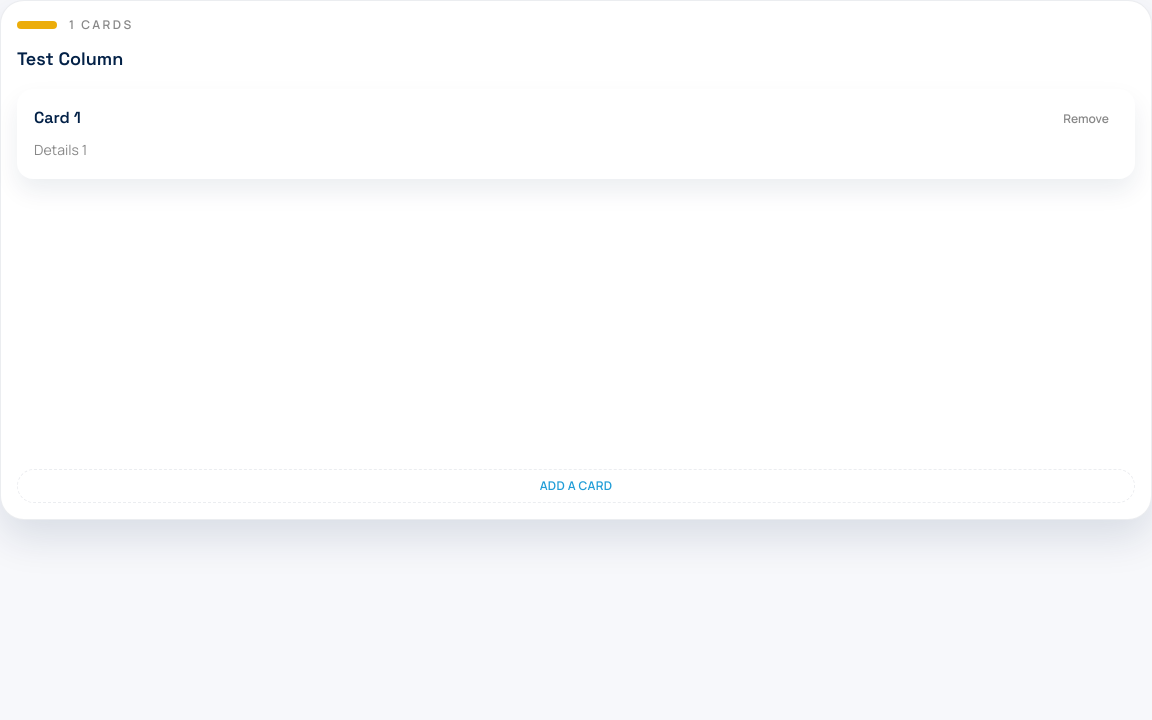
Scenario: KanbanColumn › shows add card form when button clicked
What coordinates should you click on to do the following:
click the button "Add a card"
I would click on:
 (576, 486)
Its box is [17, 469, 1135, 503].
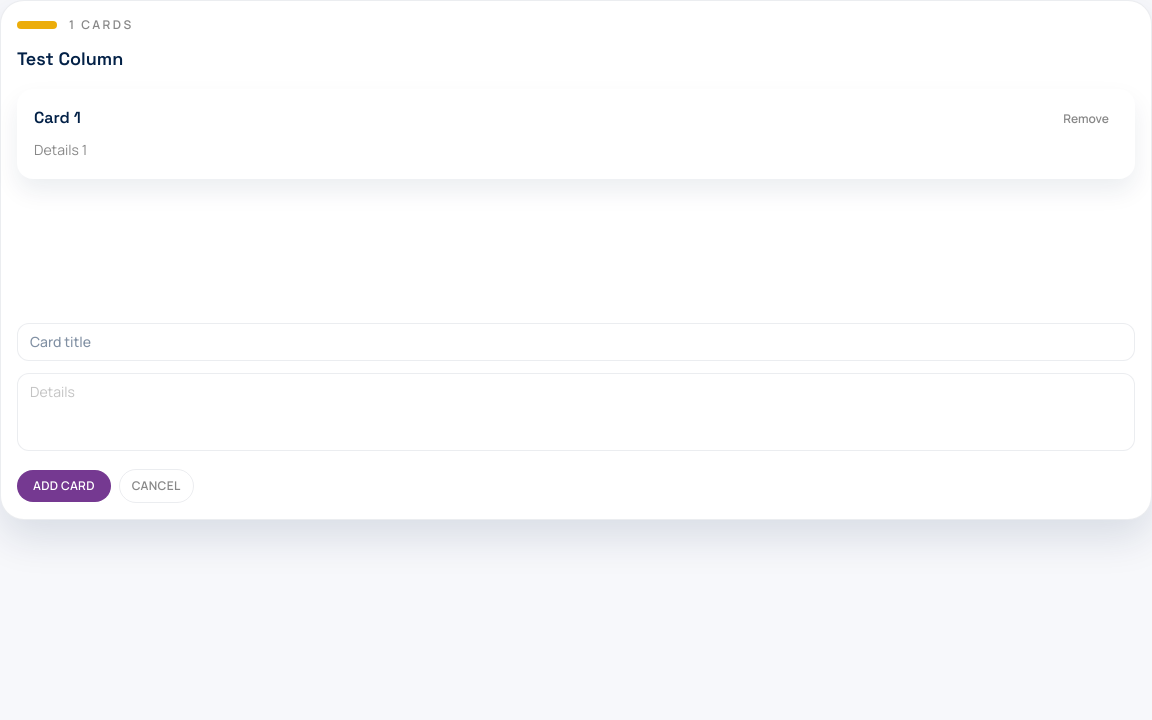
Expected: the field with placeholder "Card title" is shown, [17, 323, 1135, 361]
Expected: the text box with placeholder "Details" is shown, [17, 373, 1135, 451]
